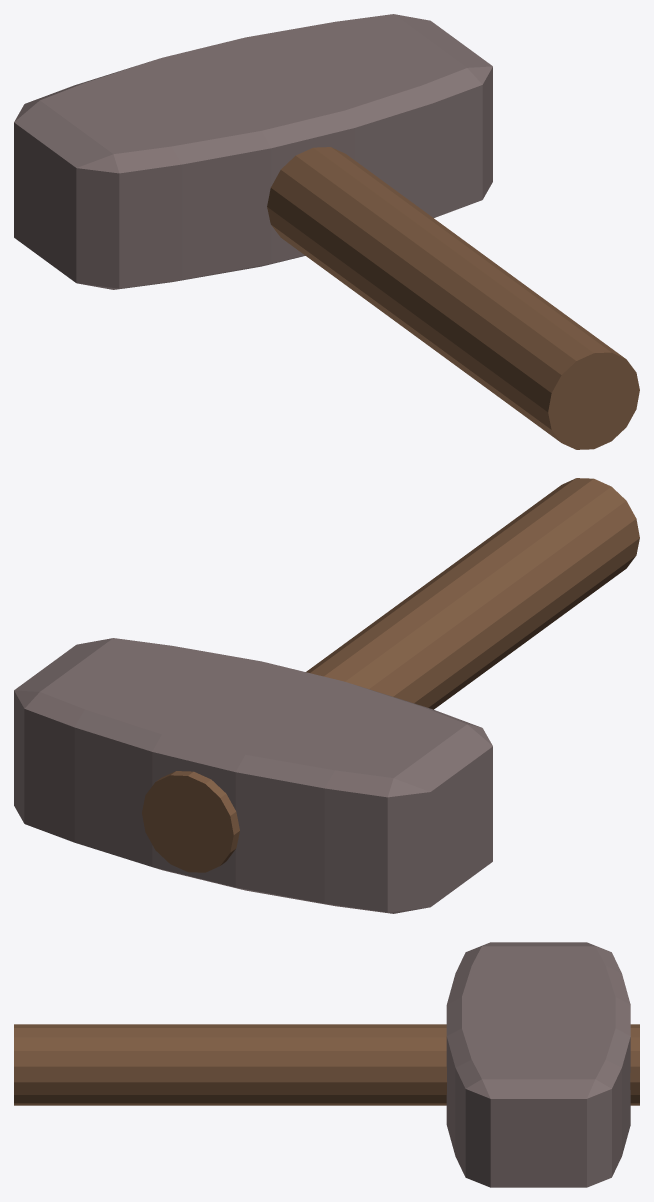
The model's file is hammer.glb.
3 renders of one model, top to bottom at view 1: azimuth 30°, elevation 25°; view 2: azimuth 150°, elevation 25°; view 3: azimuth 270°, elevation 25°, orthographic. The views are drawn at different scales.
Parts seen in each view (by area): view 1: hammer-col; view 2: hammer-col; view 3: hammer-col.
Boxes of the visible parts, left/top/right/bottom form: hammer-col: left=14, top=14, right=639, bottom=449; hammer-col: left=14, top=478, right=639, bottom=913; hammer-col: left=14, top=942, right=639, bottom=1187.
Size of the model in its own units: 0.3099 by 0.0965 by 0.5232.
